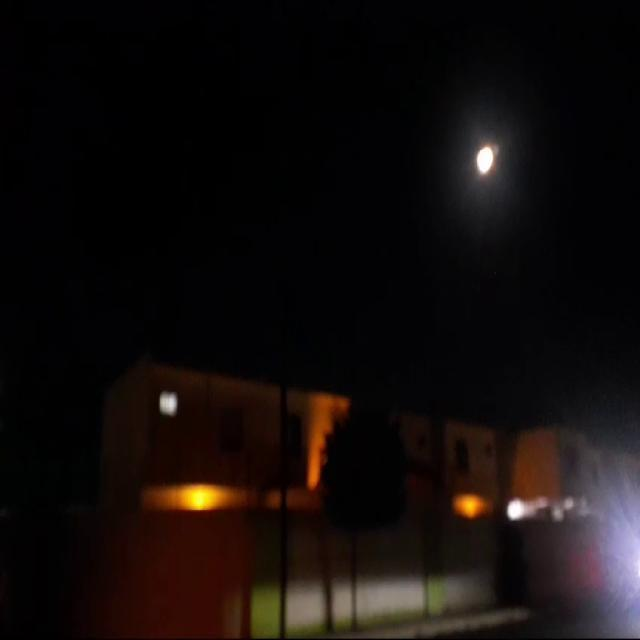moon: (476, 138, 496, 172)
